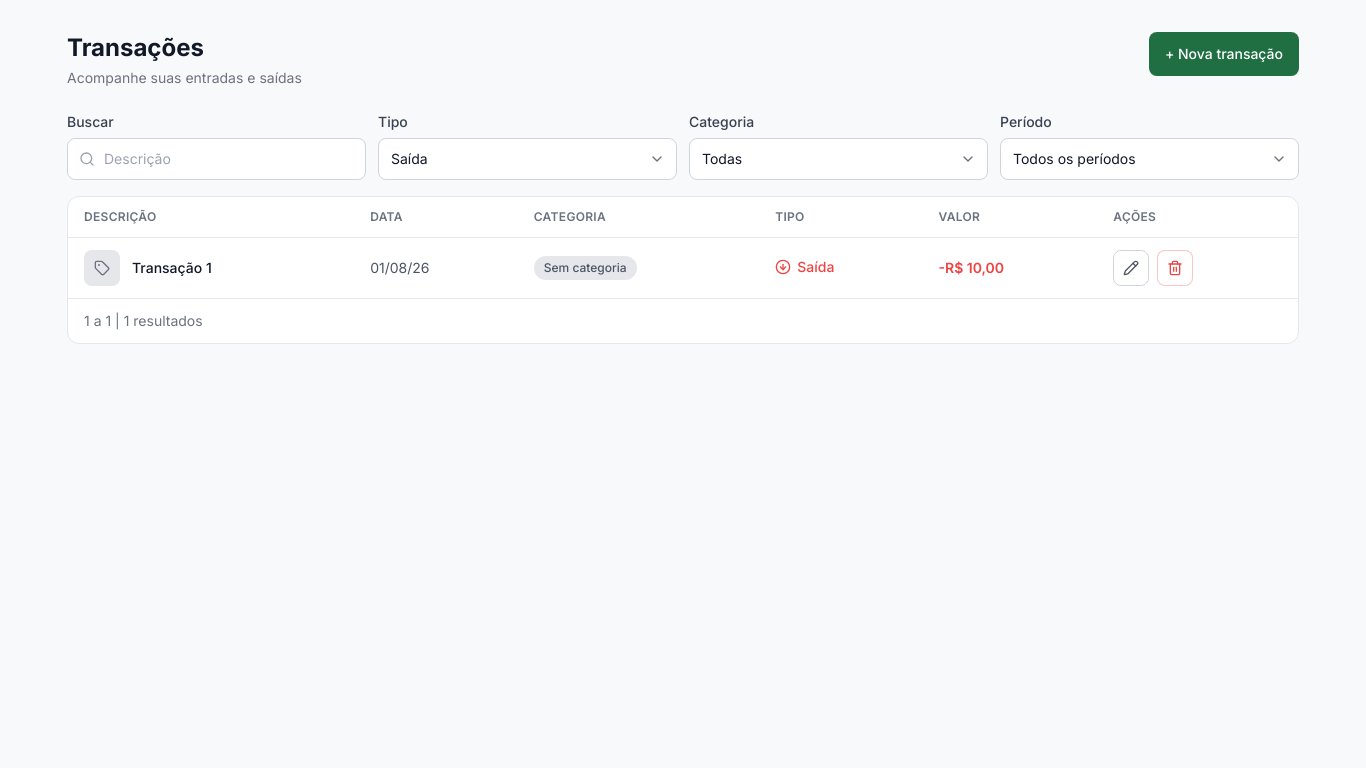
it: TransactionsPage filters › refetches a filtered list after a delete
Expected: the text "Transação 1" is shown, [132,258,212,278]
Click the button named "Excluir Transação 1": (1175, 268) [1157,250,1193,286]
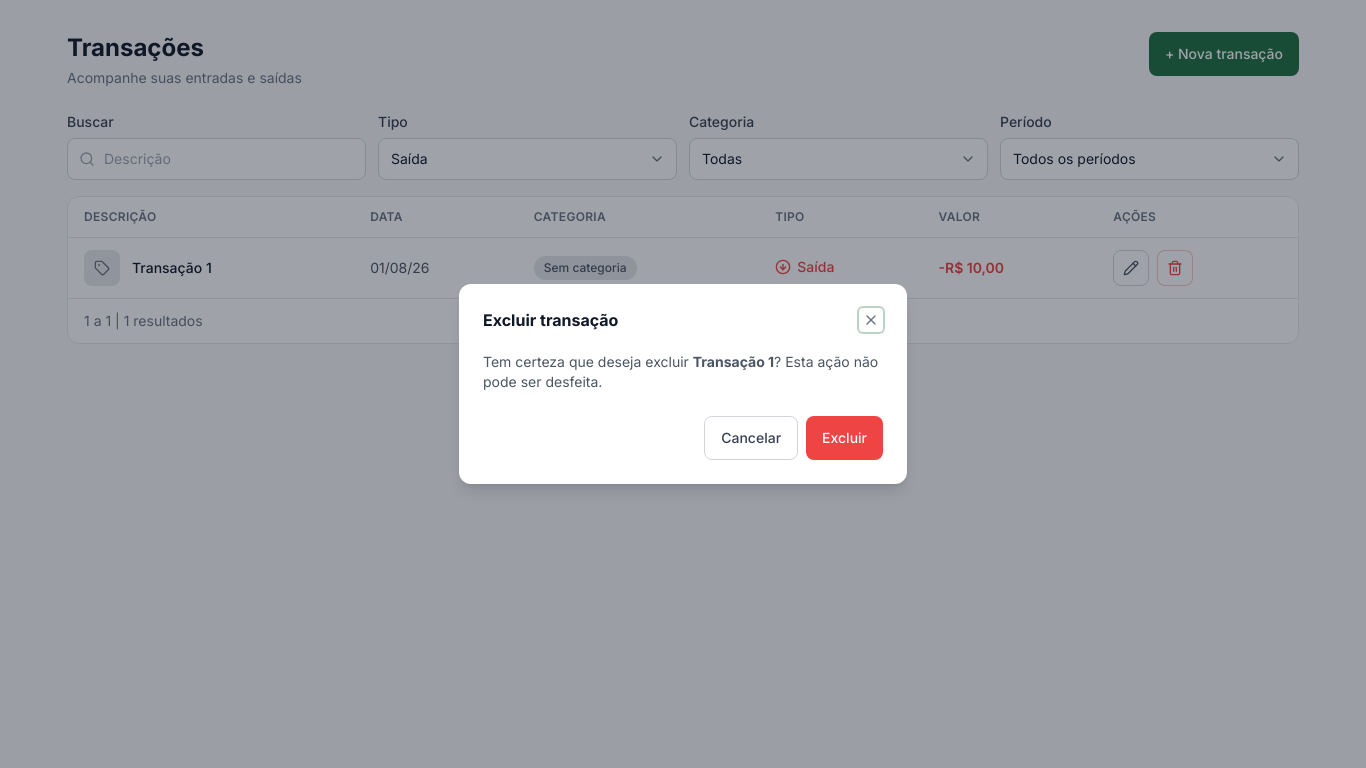
Expected: the heading "Excluir transação" is shown, [483,308,618,332]
Click the button "Excluir": (845, 438) [806,416,883,460]
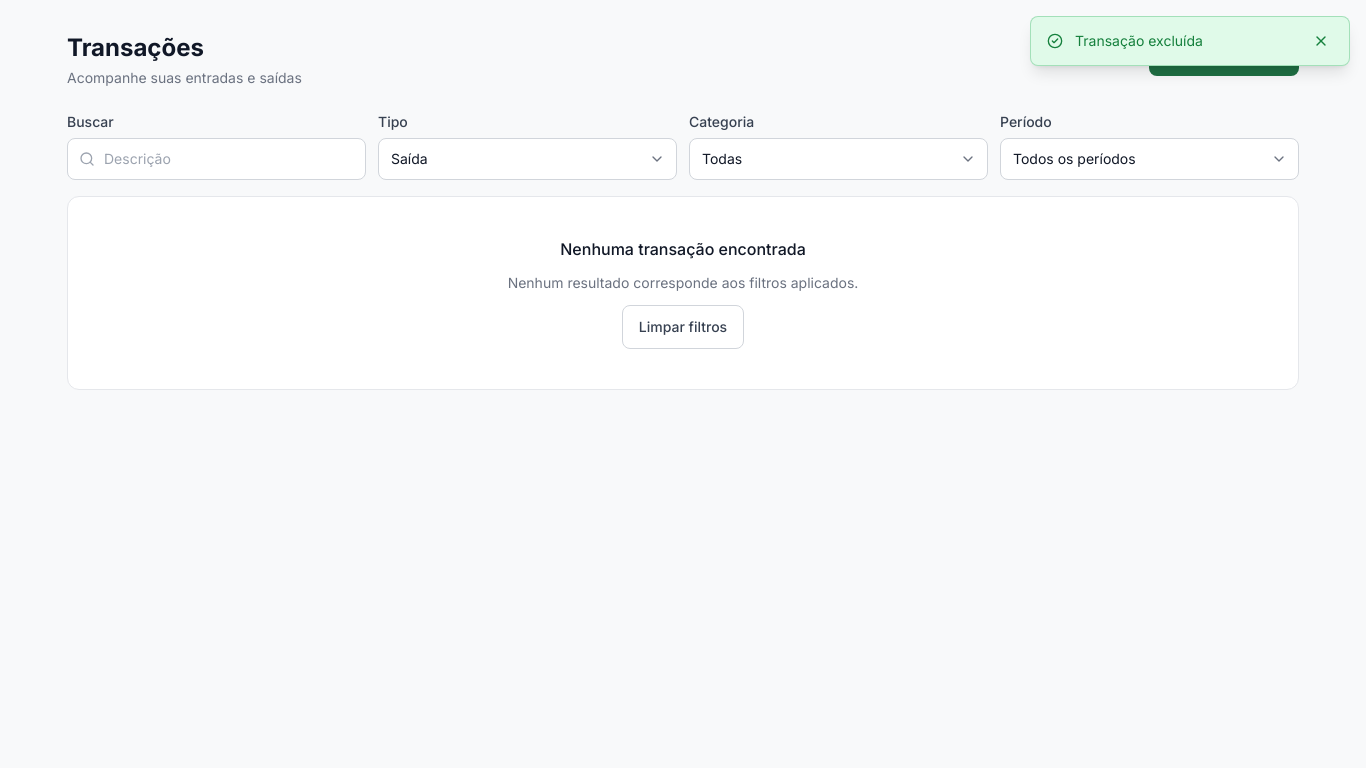
Expected: the text "Transação 1" is gone
